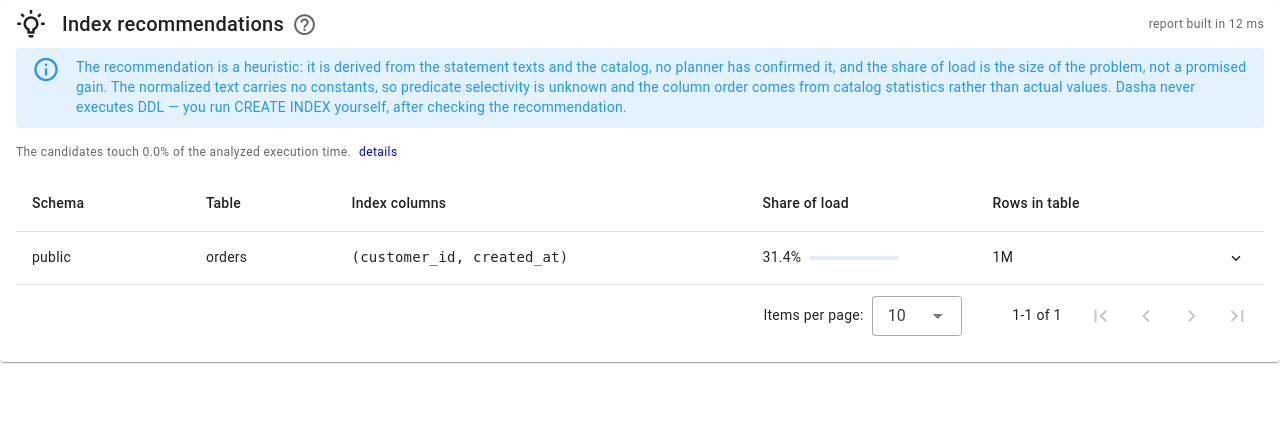
IndexAdvisorSection › names the hosts a candidate list was built from
What coordinates should you click on to do the following:
click the link "details"
I would click on:
 (378, 152)
Its box is [359,142,398,162].
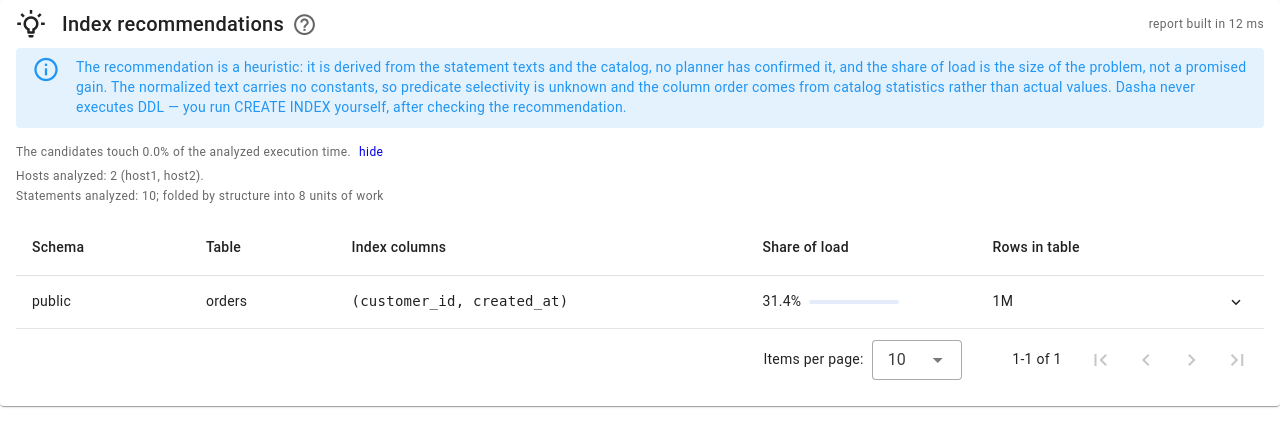
Result: the text "host1, host2" is shown at [16,169,204,183]
